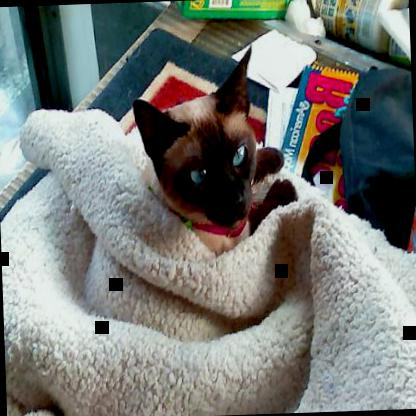cat: (130, 44, 300, 255)
